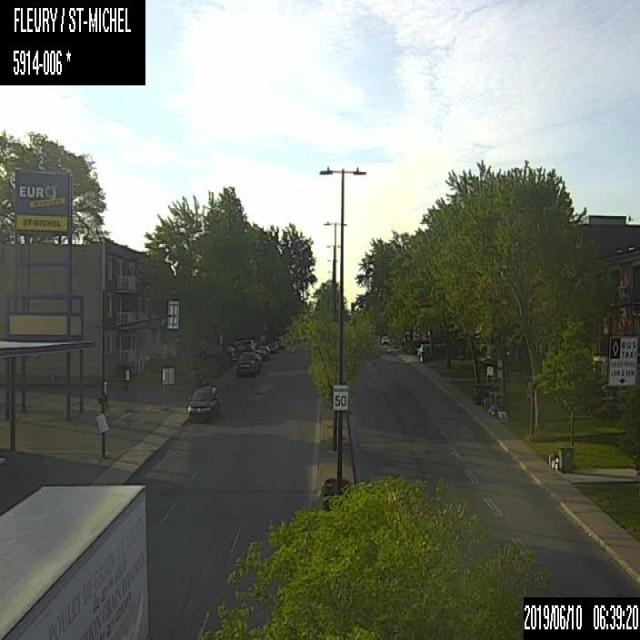vehicle: (0, 478, 151, 638), (184, 383, 219, 421), (236, 352, 260, 374), (250, 345, 270, 361), (380, 334, 390, 344)
